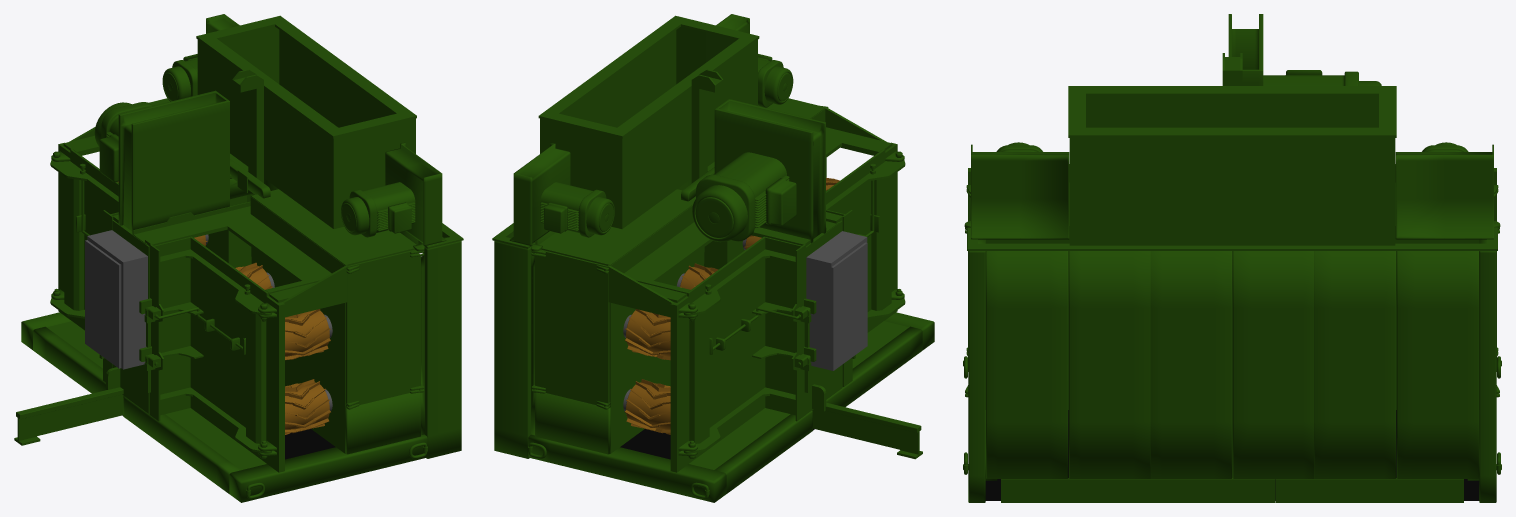
Rendered from Sawmill_debarker.glb.
3 renders of one model, left to right at view 1: azimuth 30°, elevation 25°; view 2: azimuth 150°, elevation 25°; view 3: azimuth 270°, elevation 25°, orthographic. The views are drawn at different scales.
Visible parts, largest first — view 1: Cube.004, Cube.006, Cylinder.026, Cylinder.018, Cylinder.016, Plane, Cylinder.020; view 2: Cube.004, Cylinder.026, Cube.006, Cylinder.031, Cylinder.029, Plane, Cylinder.033; view 3: Cube.004, Plane.
Boxes of the visible parts, bbox=[...] form: Cube.004: bbox=[14, 14, 463, 502]; Cube.006: bbox=[139, 236, 271, 463]; Cylinder.026: bbox=[50, 149, 118, 382]; Cylinder.018: bbox=[285, 379, 332, 434]; Cylinder.016: bbox=[285, 309, 332, 360]; Plane: bbox=[122, 415, 335, 459]; Cylinder.020: bbox=[235, 262, 274, 289]; Cube.004: bbox=[492, 14, 934, 502]; Cylinder.026: bbox=[683, 236, 816, 463]; Cube.006: bbox=[826, 149, 905, 386]; Cylinder.031: bbox=[623, 379, 670, 434]; Cylinder.029: bbox=[623, 309, 670, 360]; Plane: bbox=[620, 428, 814, 459]; Cylinder.033: bbox=[677, 263, 718, 289]; Cube.004: bbox=[963, 14, 1501, 502]; Plane: bbox=[985, 410, 1479, 500].
Bounding box in the file's own units: 3.34 × 3.16 × 4.
